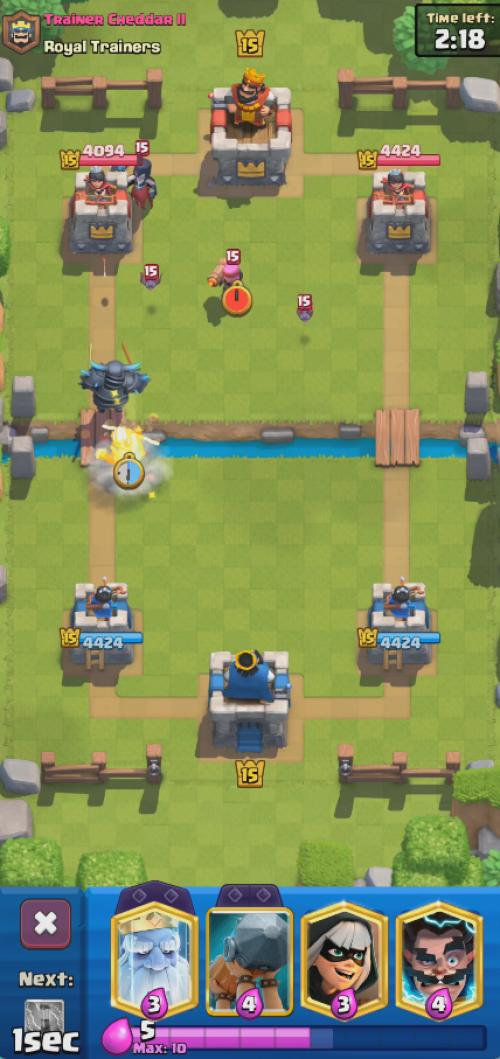Enemy-Bat: (140, 264, 161, 289), (297, 310, 311, 321)
Enemy-Firecracker: (209, 253, 242, 292)
Enemy-KingTower: (210, 69, 291, 190)
Enemy-NightWitch: (128, 158, 156, 210)
Enemy-PrincessTower: (70, 163, 131, 255), (367, 169, 429, 254)
